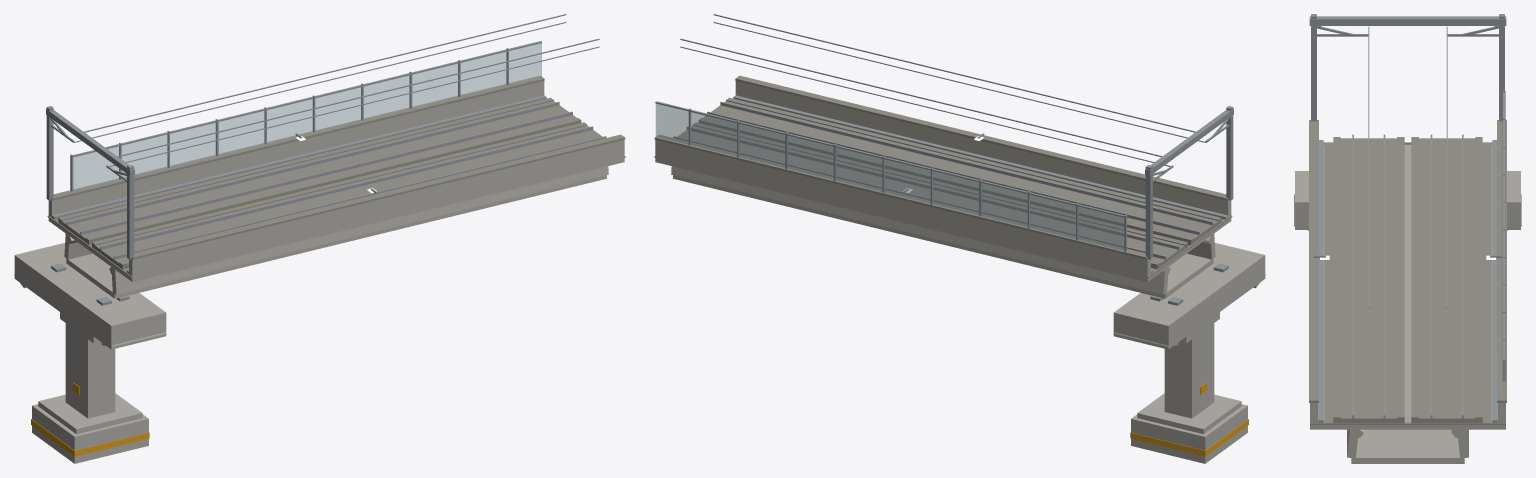
File: rail_span.glb
The picture shows the model from 3 angles, left to right: view 1: azimuth 30°, elevation 25°; view 2: azimuth 150°, elevation 25°; view 3: azimuth 270°, elevation 25°; orthographic projection. The views are drawn at different scales.
Parts seen in each view (by area): view 1: Rail_Concrete, Rail_ConcreteDark, Rail_Steel, Rail_Glass, Rail_Warn; view 2: Rail_Concrete, Rail_ConcreteDark, Rail_Steel, Rail_Glass, Rail_Warn; view 3: Rail_ConcreteDark, Rail_Steel, Rail_Concrete.
Boxes of the visible parts, x1=… form: Rail_Concrete: x1=14, y1=81, x2=624, y2=463; Rail_ConcreteDark: x1=47, y1=76, x2=625, y2=278; Rail_Steel: x1=46, y1=14, x2=606, y2=305; Rail_Glass: x1=73, y1=43, x2=541, y2=190; Rail_Warn: x1=31, y1=382, x2=149, y2=456; Rail_Concrete: x1=655, y1=81, x2=1265, y2=463; Rail_ConcreteDark: x1=654, y1=75, x2=1232, y2=278; Rail_Steel: x1=655, y1=14, x2=1233, y2=305; Rail_Glass: x1=655, y1=103, x2=1124, y2=250; Rail_Warn: x1=1130, y1=382, x2=1248, y2=456; Rail_ConcreteDark: x1=1309, y1=17, x2=1506, y2=424; Rail_Steel: x1=1309, y1=14, x2=1506, y2=423; Rail_Concrete: x1=1294, y1=144, x2=1521, y2=463.
Size of the model in its own units: 3.29 by 1.79 by 1.05.
